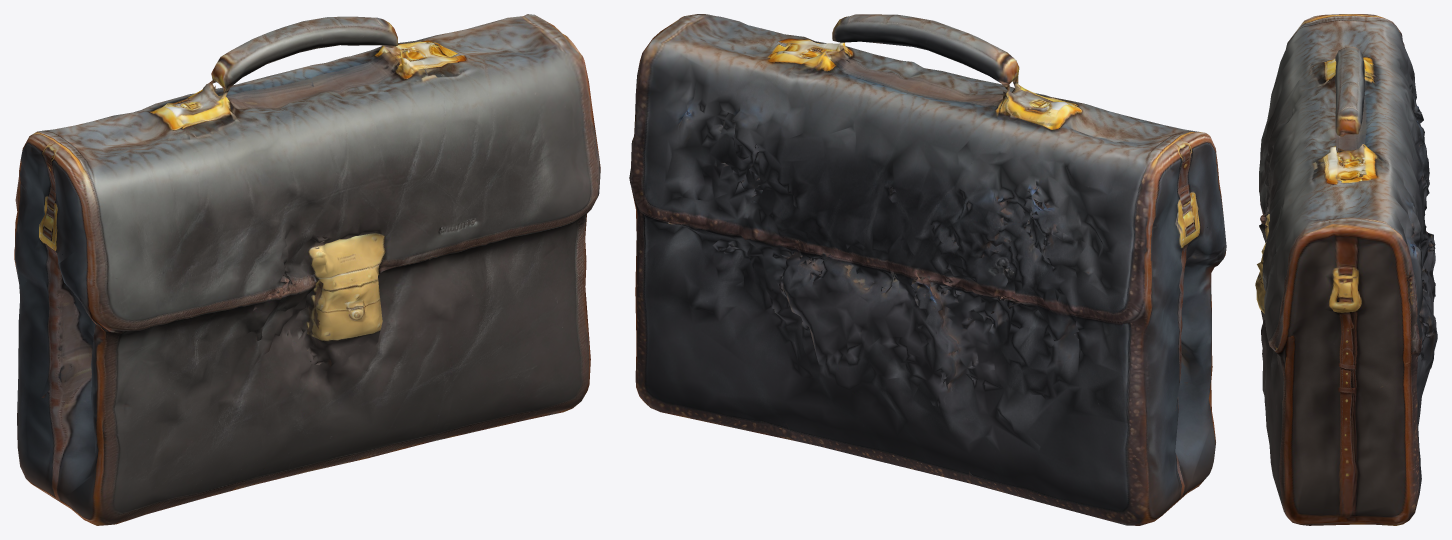
Rendered from 008b4d26-daf9-4c8a-9a72-b3dcc27d5713.glb.
3 views of the same model, side by side, from view 1: azimuth 30°, elevation 25°; view 2: azimuth 150°, elevation 25°; view 3: azimuth 270°, elevation 25° (orthographic). The views are drawn at different scales.
Size of the model in its own units: 1.2 by 0.9367 by 0.4209.
1 material, 1 textured.
